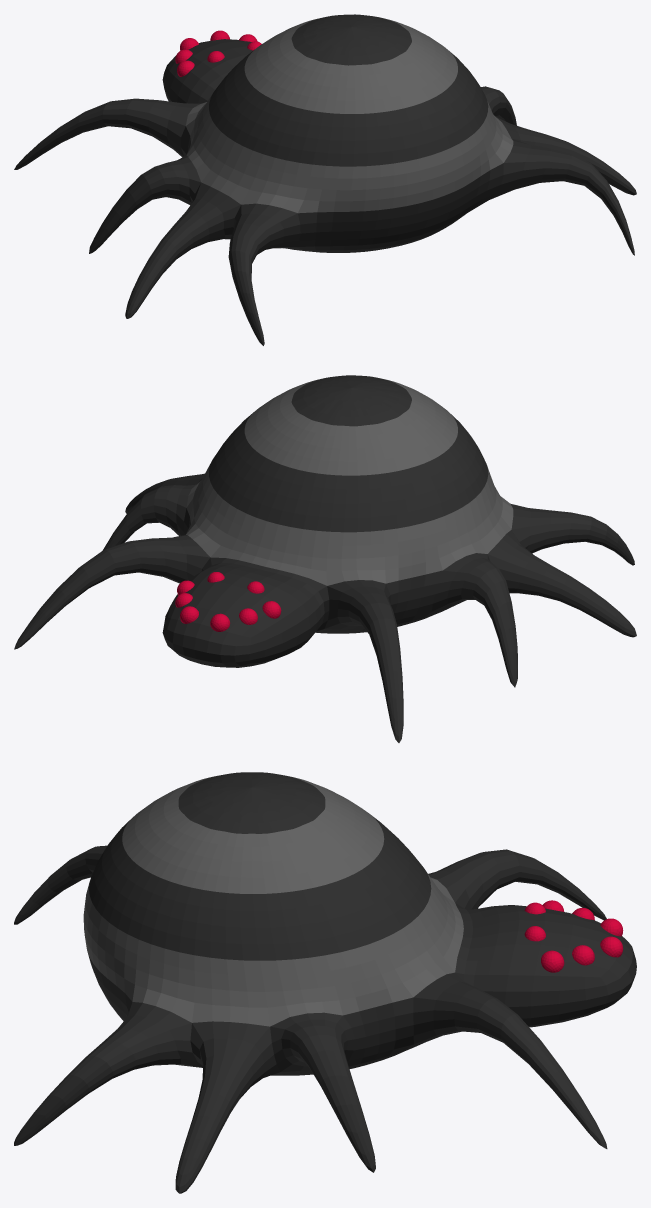
Rendered from aranya 1.fbx.
The picture shows the model from 3 angles, top to bottom: view 1: azimuth 30°, elevation 25°; view 2: azimuth 150°, elevation 25°; view 3: azimuth 270°, elevation 25°; orthographic projection. The views are drawn at different scales.
Visible parts, largest first — view 1: Sphere; view 2: Sphere; view 3: Sphere.
Boxes of the visible parts, x1=… form: Sphere: x1=14, y1=14, x2=636, y2=345; Sphere: x1=14, y1=375, x2=636, y2=742; Sphere: x1=14, y1=772, x2=636, y2=1193.
Size of the model in its own units: 3.71 by 1.47 by 3.2.
